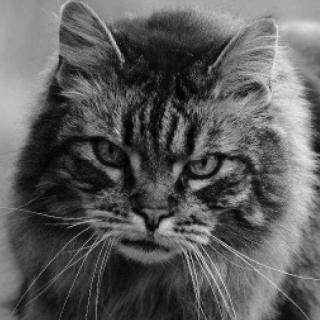cat: (45, 2, 289, 279)
nose: (133, 176, 178, 233)
